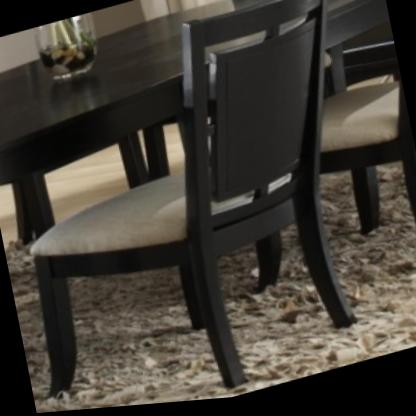Chair: (0, 0, 405, 416)
